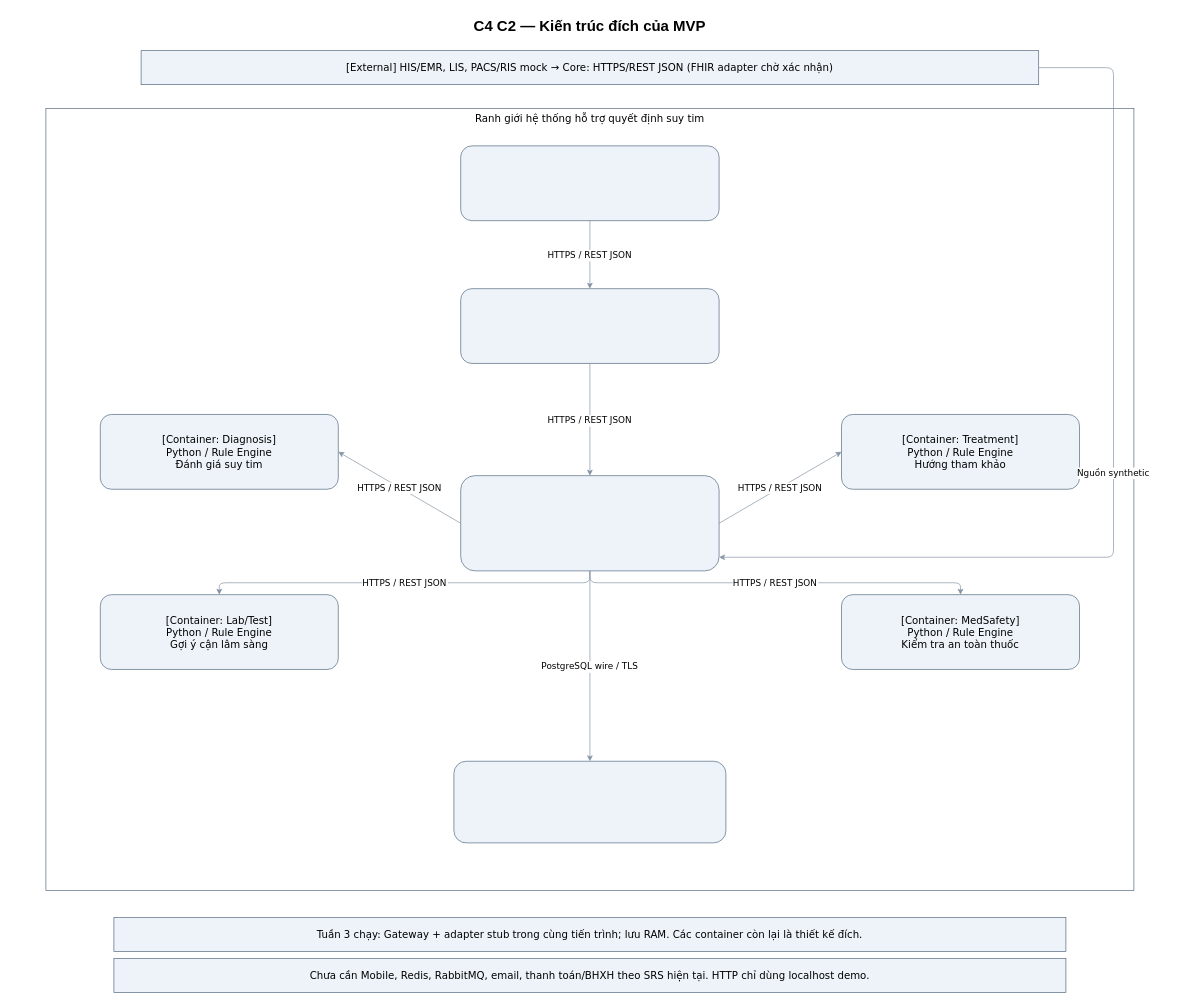
The diagram is 1179 pixels wide and 1004 high, and some of its shapes have lost their labels. The centre of each missing label's shape, as x and y in pixels:
[Container: API Gateway] FastAPI Xác thực, định tuyến, lỗi API: (x=589, y=325)
[Container: Core Service] Python Ca, snapshot, quyết định, quy tắc, audit: (x=589, y=523)
[Container: Database] PostgreSQL 16+ Dữ liệu chuẩn hóa, lịch sử: (x=589, y=802)
[Container: Web App] React/TypeScript (đề xuất) Smart Panel mô phỏng: (x=589, y=183)
